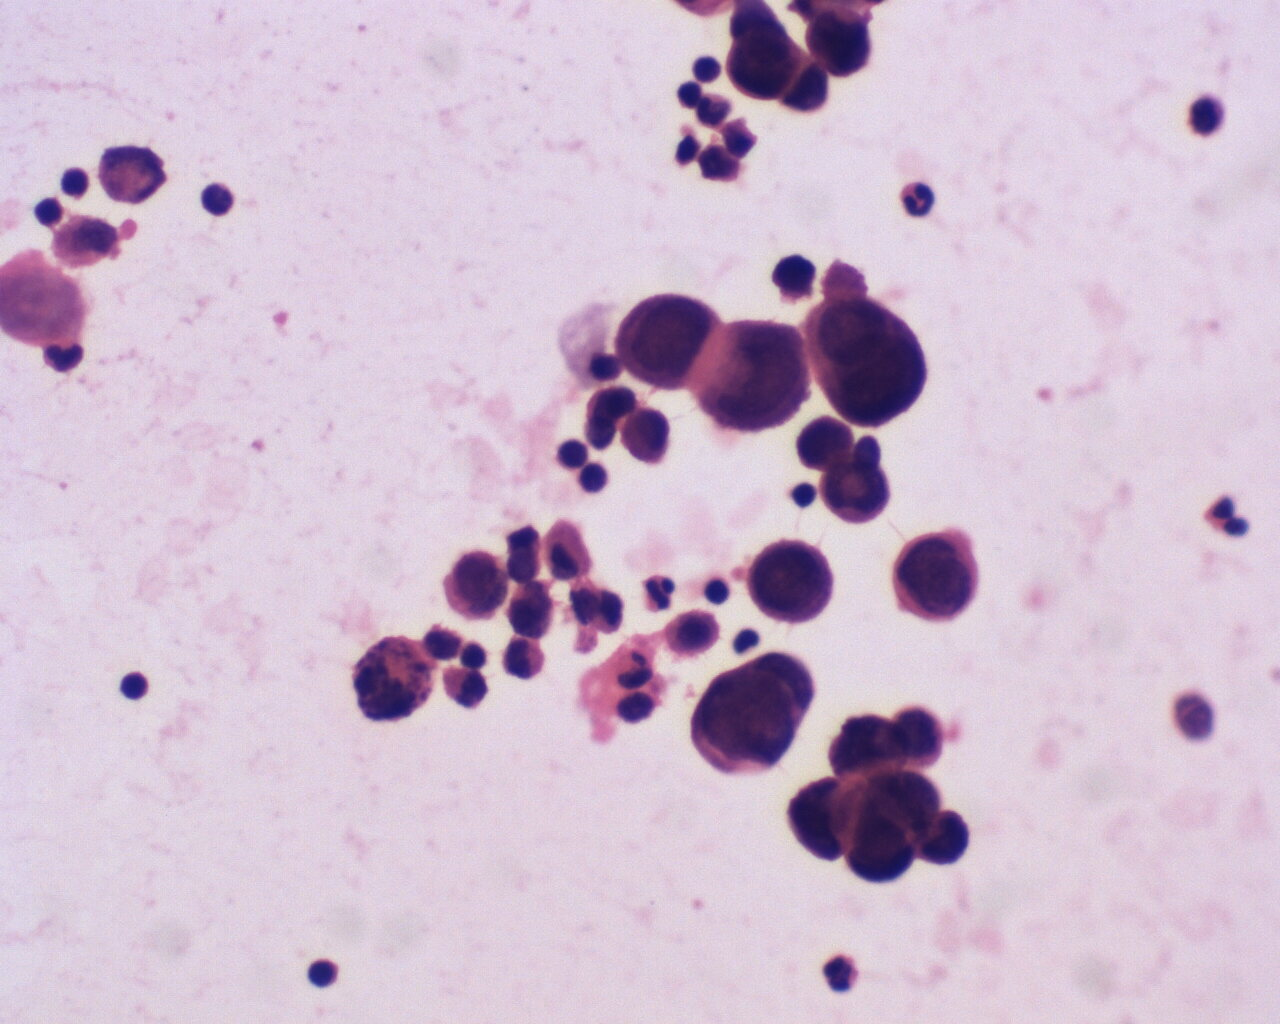ab: (805, 292, 936, 430), (700, 315, 813, 434), (690, 665, 797, 777), (615, 294, 727, 394), (886, 525, 983, 628), (748, 535, 834, 626), (719, 20, 805, 100), (815, 455, 895, 528), (444, 546, 509, 625), (796, 410, 854, 475), (620, 409, 678, 467)
lymph: (197, 172, 236, 223), (302, 951, 345, 996), (552, 432, 594, 474), (29, 191, 68, 232), (117, 667, 153, 708)
neutro: (823, 947, 865, 997), (897, 177, 940, 220), (639, 573, 681, 613)
